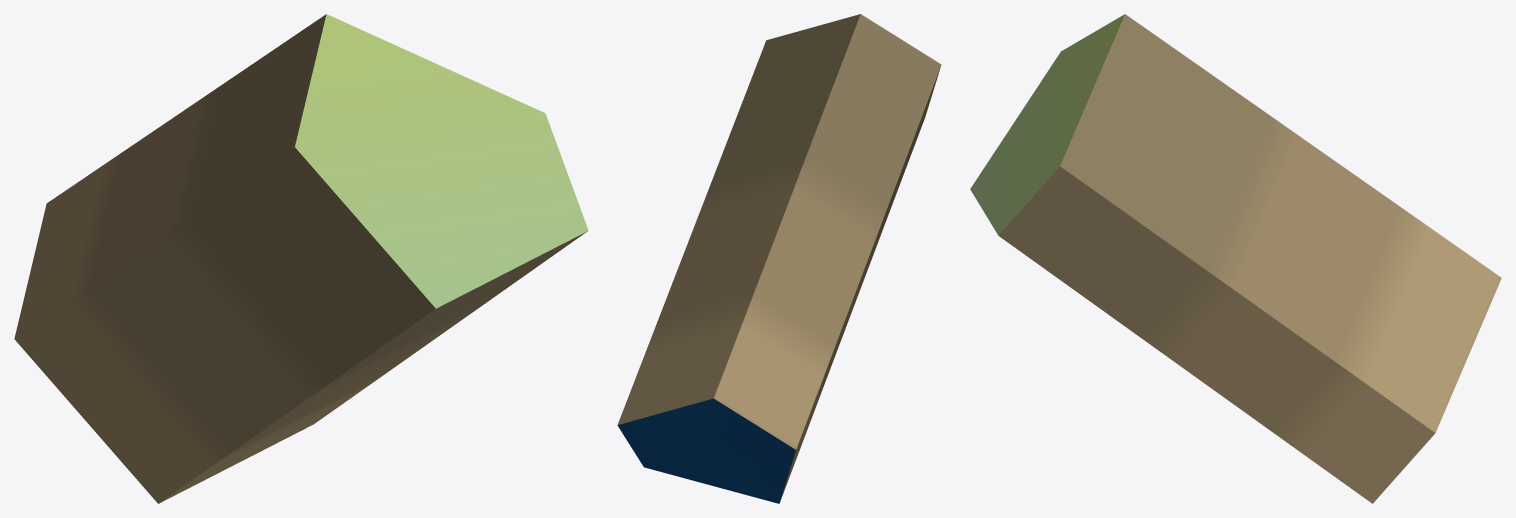
The model's file is 068b_Luxembourg.glb.
3 views of the same model, side by side, from view 1: azimuth 30°, elevation 25°; view 2: azimuth 150°, elevation 25°; view 3: azimuth 270°, elevation 25° (orthographic). The views are drawn at different scales.
Visible parts, largest first — view 1: part_0; view 2: part_0; view 3: part_0.
Boxes of the visible parts, x1,y1,x2,y2 form: part_0: [14, 14, 588, 503]; part_0: [617, 14, 941, 503]; part_0: [970, 14, 1501, 503].
Bounding box in the file's own units: 0.106 × 0.2053 × 0.2187.
Materials: 1 (1 with a texture image).
